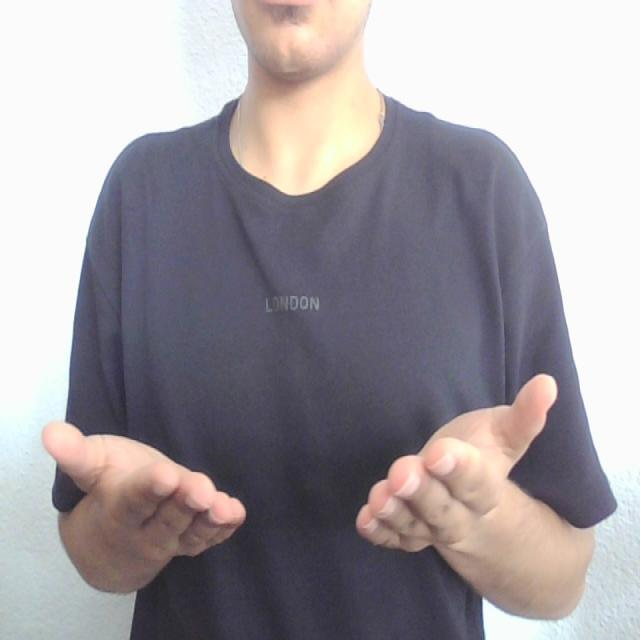Evet: (40, 364, 563, 566)
